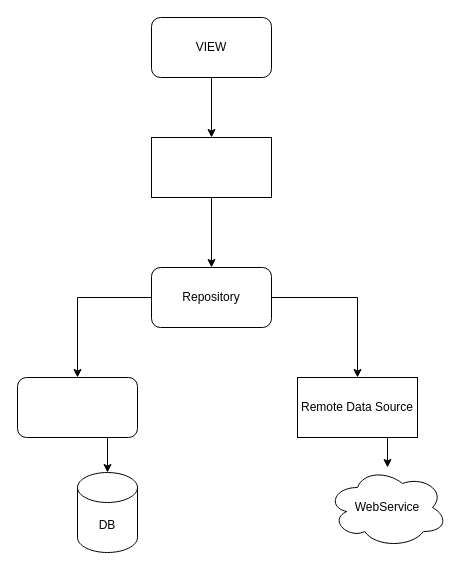
The diagram is 465 pixels wide and 570 high, and some of its shapes have lost their labels. The centre of each missing label's shape, as x and y in pixels:
Model: (x=77, y=407)
ViewModel: (x=211, y=167)
